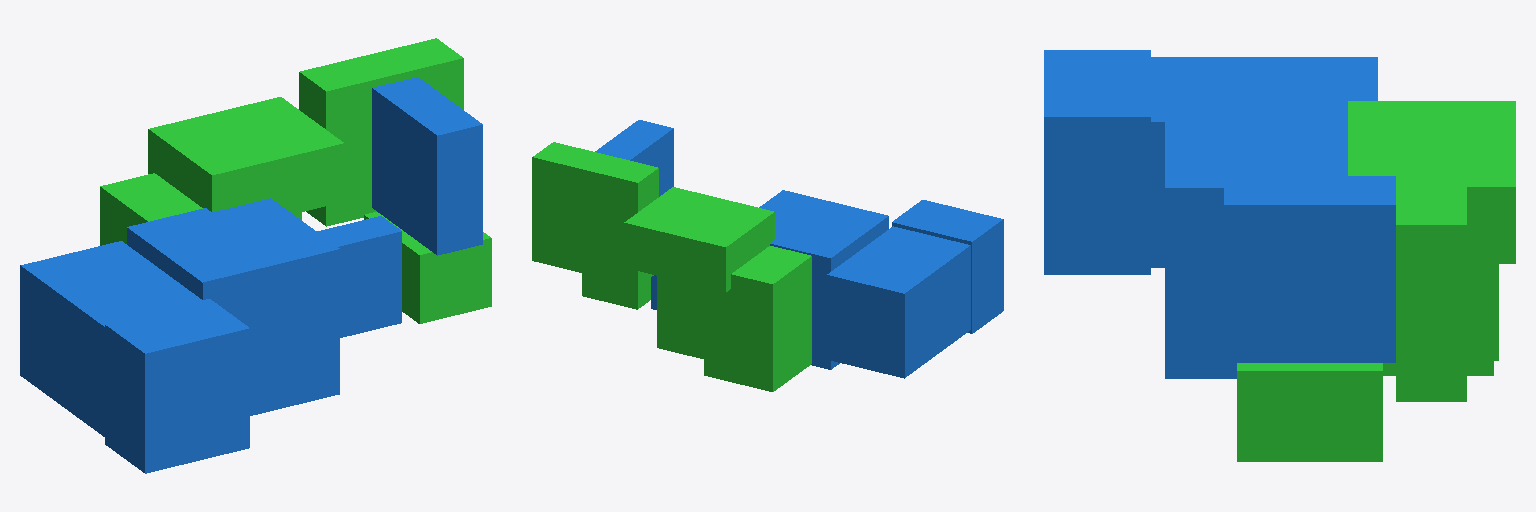
robot.urdf — robot:
<robot name = "robot">
    <link name="Link0">
        <inertial>
            <origin xyz="0 0 2" rpy="0 0 0"/>
            <mass value="0.18839090380199583" />
            <inertia ixx="100" ixy="0" ixz="0" iyy="100" iyz="0" izz="100" />
        </inertial>
        <visual>
            <origin xyz="0 0 2" rpy="0 0 0"/>
            <geometry>
                <box size="0.8934625222408049 0.2954982160406038 0.7135570909517118" />
            </geometry>
            <material name="No Sensor">
                <color rgba="0.184 0.553 0.933 1.0"/>
            </material>
        </visual>
        <collision>
            <origin xyz="0 0 2" rpy="0 0 0"/>
            <geometry>
                <box size="0.8934625222408049 0.2954982160406038 0.7135570909517118" />
            </geometry>
        </collision>
    </link>
    <joint name="Link0_Link1" type="revolute">
       <parent link="Link0"/>
       <child  link="Link1"/>
       <origin rpy="0 0 0" xyz="0.44673126112040246 0 2" />
       <axis xyz="1 0 0"/>
       <limit effort="0.0" lower="-3.14159" upper="3.14159" velocity="0.0"/>
    </joint>
    <link name="Link1">
        <inertial>
            <origin xyz="0.2923756718568319 0 0" rpy="0 0 0"/>
            <mass value="0.24458313612755814" />
            <inertia ixx="100" ixy="0" ixz="0" iyy="100" iyz="0" izz="100" />
        </inertial>
        <visual>
            <origin xyz="0.2923756718568319 0 0" rpy="0 0 0"/>
            <geometry>
                <box size="0.5847513437136638 0.7821815485216747 0.5347462086131314" />
            </geometry>
            <material name="Sensor">
                <color rgba="0.239 0.875 0.282 1.0"/>
            </material>
        </visual>
        <collision>
            <origin xyz="0.2923756718568319 0 0" rpy="0 0 0"/>
            <geometry>
                <box size="0.5847513437136638 0.7821815485216747 0.5347462086131314" />
            </geometry>
        </collision>
    </link>
    <joint name="Link1_Link2" type="revolute">
       <parent link="Link1"/>
       <child  link="Link2"/>
       <origin rpy="0 0 0" xyz="0.2923756718568319 0.0 0.2673731043065657" />
       <axis xyz="0 0 1"/>
       <limit effort="0.0" lower="-3.14159" upper="3.14159" velocity="0.0"/>
    </joint>
    <link name="Link2">
        <inertial>
            <origin xyz="0.0 0.0 0.46567987744565315" rpy="0 0 0"/>
            <mass value="0.31837917467269583" />
            <inertia ixx="100" ixy="0" ixz="0" iyy="100" iyz="0" izz="100" />
        </inertial>
        <visual>
            <origin xyz="0.0 0.0 0.46567987744565315" rpy="0 0 0"/>
            <geometry>
                <box size="0.3722612302300028 0.9182889887508018 0.9313597548913063" />
            </geometry>
            <material name="No Sensor">
                <color rgba="0.184 0.553 0.933 1.0"/>
            </material>
        </visual>
        <collision>
            <origin xyz="0.0 0.0 0.46567987744565315" rpy="0 0 0"/>
            <geometry>
                <box size="0.3722612302300028 0.9182889887508018 0.9313597548913063" />
            </geometry>
        </collision>
    </link>
    <joint name="Link2_Link3" type="revolute">
       <parent link="Link2"/>
       <child  link="Link3"/>
       <origin rpy="0 0 0" xyz="0.0 0.4591444943754009 0.46567987744565315" />
       <axis xyz="1 0 0"/>
       <limit effort="0.0" lower="-3.14159" upper="3.14159" velocity="0.0"/>
    </joint>
    <link name="Link3">
        <inertial>
            <origin xyz="0.0 0.19119074678136871 0.0" rpy="0 0 0"/>
            <mass value="0.4479426961582286" />
            <inertia ixx="100" ixy="0" ixz="0" iyy="100" iyz="0" izz="100" />
        </inertial>
        <visual>
            <origin xyz="0.0 0.19119074678136871 0.0" rpy="0 0 0"/>
            <geometry>
                <box size="1.1171392999990886 0.38238149356273743 1.048620308278031" />
            </geometry>
            <material name="Sensor">
                <color rgba="0.239 0.875 0.282 1.0"/>
            </material>
        </visual>
        <collision>
            <origin xyz="0.0 0.19119074678136871 0.0" rpy="0 0 0"/>
            <geometry>
                <box size="1.1171392999990886 0.38238149356273743 1.048620308278031" />
            </geometry>
        </collision>
    </link>
    <joint name="Link3_Link4" type="revolute">
       <parent link="Link3"/>
       <child  link="Link4"/>
       <origin rpy="0 0 0" xyz="-0.5585696499995443 0.19119074678136871 0.0" />
       <axis xyz="1 0 0"/>
       <limit effort="0.0" lower="-3.14159" upper="3.14159" velocity="0.0"/>
    </joint>
    <link name="Link4">
        <inertial>
            <origin xyz="-0.5383843692025645 0.0 0.0" rpy="0 0 0"/>
            <mass value="0.4391713505040554" />
            <inertia ixx="100" ixy="0" ixz="0" iyy="100" iyz="0" izz="100" />
        </inertial>
        <visual>
            <origin xyz="-0.5383843692025645 0.0 0.0" rpy="0 0 0"/>
            <geometry>
                <box size="1.076768738405129 0.8965499357511519 0.45492214578063384" />
            </geometry>
            <material name="Sensor">
                <color rgba="0.239 0.875 0.282 1.0"/>
            </material>
        </visual>
        <collision>
            <origin xyz="-0.5383843692025645 0.0 0.0" rpy="0 0 0"/>
            <geometry>
                <box size="1.076768738405129 0.8965499357511519 0.45492214578063384" />
            </geometry>
        </collision>
    </link>
    <joint name="Link4_Link5" type="revolute">
       <parent link="Link4"/>
       <child  link="Link5"/>
       <origin rpy="0 0 0" xyz="-0.5383843692025645 0.0 -0.22746107289031692" />
       <axis xyz="1 0 0"/>
       <limit effort="0.0" lower="-3.14159" upper="3.14159" velocity="0.0"/>
    </joint>
    <link name="Link5">
        <inertial>
            <origin xyz="0.0 0.0 -0.39589953639136566" rpy="0 0 0"/>
            <mass value="0.2707027374191666" />
            <inertia ixx="100" ixy="0" ixz="0" iyy="100" iyz="0" izz="100" />
        </inertial>
        <visual>
            <origin xyz="0.0 0.0 -0.39589953639136566" rpy="0 0 0"/>
            <geometry>
                <box size="0.5114207144058379 0.6684968175391757 0.7917990727827313" />
            </geometry>
            <material name="Sensor">
                <color rgba="0.239 0.875 0.282 1.0"/>
            </material>
        </visual>
        <collision>
            <origin xyz="0.0 0.0 -0.39589953639136566" rpy="0 0 0"/>
            <geometry>
                <box size="0.5114207144058379 0.6684968175391757 0.7917990727827313" />
            </geometry>
        </collision>
    </link>
    <joint name="Link5_Link6" type="revolute">
       <parent link="Link5"/>
       <child  link="Link6"/>
       <origin rpy="0 0 0" xyz="-0.25571035720291896 0.0 -0.39589953639136566" />
       <axis xyz="0 0 1"/>
       <limit effort="0.0" lower="-3.14159" upper="3.14159" velocity="0.0"/>
    </joint>
    <link name="Link6">
        <inertial>
            <origin xyz="-0.3637189777961085 0.0 0.0" rpy="0 0 0"/>
            <mass value="0.5687961026752923" />
            <inertia ixx="100" ixy="0" ixz="0" iyy="100" iyz="0" izz="100" />
        </inertial>
        <visual>
            <origin xyz="-0.3637189777961085 0.0 0.0" rpy="0 0 0"/>
            <geometry>
                <box size="0.727437955592217 0.7174598920453694 1.0898407101976675" />
            </geometry>
            <material name="Sensor">
                <color rgba="0.239 0.875 0.282 1.0"/>
            </material>
        </visual>
        <collision>
            <origin xyz="-0.3637189777961085 0.0 0.0" rpy="0 0 0"/>
            <geometry>
                <box size="0.727437955592217 0.7174598920453694 1.0898407101976675" />
            </geometry>
        </collision>
    </link>
    <joint name="Link6_Link7" type="revolute">
       <parent link="Link6"/>
       <child  link="Link7"/>
       <origin rpy="0 0 0" xyz="-0.3637189777961085 -0.3587299460226847 0.0" />
       <axis xyz="0 0 1"/>
       <limit effort="0.0" lower="-3.14159" upper="3.14159" velocity="0.0"/>
    </joint>
    <link name="Link7">
        <inertial>
            <origin xyz="0.0 -0.5333769821883834 0.0" rpy="0 0 0"/>
            <mass value="1.347580184814661" />
            <inertia ixx="100" ixy="0" ixz="0" iyy="100" iyz="0" izz="100" />
        </inertial>
        <visual>
            <origin xyz="0.0 -0.5333769821883834 0.0" rpy="0 0 0"/>
            <geometry>
                <box size="1.1201023653075677 1.0667539643767667 1.1278014186346996" />
            </geometry>
            <material name="No Sensor">
                <color rgba="0.184 0.553 0.933 1.0"/>
            </material>
        </visual>
        <collision>
            <origin xyz="0.0 -0.5333769821883834 0.0" rpy="0 0 0"/>
            <geometry>
                <box size="1.1201023653075677 1.0667539643767667 1.1278014186346996" />
            </geometry>
        </collision>
    </link>
    <joint name="Link7_Link8" type="revolute">
       <parent link="Link7"/>
       <child  link="Link8"/>
       <origin rpy="0 0 0" xyz="-0.5600511826537838 -0.5333769821883834 0.0" />
       <axis xyz="0 1 0"/>
       <limit effort="0.0" lower="-3.14159" upper="3.14159" velocity="0.0"/>
    </joint>
    <link name="Link8">
        <inertial>
            <origin xyz="-0.41050438096853653 0.0 0.0" rpy="0 0 0"/>
            <mass value="0.8537471337532289" />
            <inertia ixx="100" ixy="0" ixz="0" iyy="100" iyz="0" izz="100" />
        </inertial>
        <visual>
            <origin xyz="-0.41050438096853653 0.0 0.0" rpy="0 0 0"/>
            <geometry>
                <box size="0.8210087619370731 1.2140361333390817 0.8565443482504677" />
            </geometry>
            <material name="No Sensor">
                <color rgba="0.184 0.553 0.933 1.0"/>
            </material>
        </visual>
        <collision>
            <origin xyz="-0.41050438096853653 0.0 0.0" rpy="0 0 0"/>
            <geometry>
                <box size="0.8210087619370731 1.2140361333390817 0.8565443482504677" />
            </geometry>
        </collision>
    </link>
    <joint name="Link8_Link9" type="revolute">
       <parent link="Link8"/>
       <child  link="Link9"/>
       <origin rpy="0 0 0" xyz="-0.41050438096853653 -0.6070180666695408 0.0" />
       <axis xyz="1 0 0"/>
       <limit effort="0.0" lower="-3.14159" upper="3.14159" velocity="0.0"/>
    </joint>
    <link name="Link9">
        <inertial>
            <origin xyz="0.0 -0.2846488685373094 0.0" rpy="0 0 0"/>
            <mass value="0.4527053951468222" />
            <inertia ixx="100" ixy="0" ixz="0" iyy="100" iyz="0" izz="100" />
        </inertial>
        <visual>
            <origin xyz="0.0 -0.2846488685373094 0.0" rpy="0 0 0"/>
            <geometry>
                <box size="0.8539477410796814 0.5692977370746188 0.931204184117019" />
            </geometry>
            <material name="No Sensor">
                <color rgba="0.184 0.553 0.933 1.0"/>
            </material>
        </visual>
        <collision>
            <origin xyz="0.0 -0.2846488685373094 0.0" rpy="0 0 0"/>
            <geometry>
                <box size="0.8539477410796814 0.5692977370746188 0.931204184117019" />
            </geometry>
        </collision>
    </link>
</robot>

--- What the picture shows (computed from the rendered views, not written in the file) ---
The picture shows the robot from 3 angles, left to right: view 1: azimuth 30°, elevation 25°; view 2: azimuth 150°, elevation 25°; view 3: azimuth 270°, elevation 25°; orthographic projection.
Robot: robot — 10 links, 9 joints (9 revolute); root link Link0; default pose: every joint at zero.
Links seen in each view (by area): view 1: Link7, Link9, Link8, Link4, Link2, Link3, Link0, Link1, Link6; view 2: Link8, Link3, Link6, Link4, Link7, Link9, Link5, Link2, Link1; view 3: Link2, Link7, Link9, Link3, Link1, Link4, Link8, Link5.
Boxes of the visible links, x1,y1,x2,y2 form: Link7: [127, 198, 339, 415]; Link9: [105, 299, 249, 473]; Link8: [20, 241, 201, 436]; Link4: [148, 97, 344, 213]; Link2: [372, 77, 482, 255]; Link3: [299, 38, 463, 226]; Link0: [317, 216, 401, 337]; Link1: [364, 212, 491, 323]; Link6: [100, 173, 202, 245]; Link8: [827, 226, 970, 378]; Link3: [532, 142, 658, 286]; Link6: [704, 246, 811, 391]; Link4: [624, 187, 774, 291]; Link7: [759, 190, 888, 369]; Link9: [892, 200, 1003, 333]; Link5: [657, 276, 703, 358]; Link2: [595, 120, 673, 196]; Link1: [582, 273, 650, 309]; Link2: [1224, 176, 1395, 362]; Link7: [1165, 99, 1363, 378]; Link9: [1044, 50, 1150, 274]; Link3: [1396, 136, 1466, 401]; Link1: [1237, 363, 1382, 461]; Link4: [1348, 101, 1515, 263]; Link8: [1151, 57, 1377, 267]; Link5: [1383, 264, 1493, 375].
Bounding box of the posed robot: 3.67 × 2.52 × 1.71 m (x, y, z).
Geometry: primitives only (box / cylinder / sphere), no mesh files.